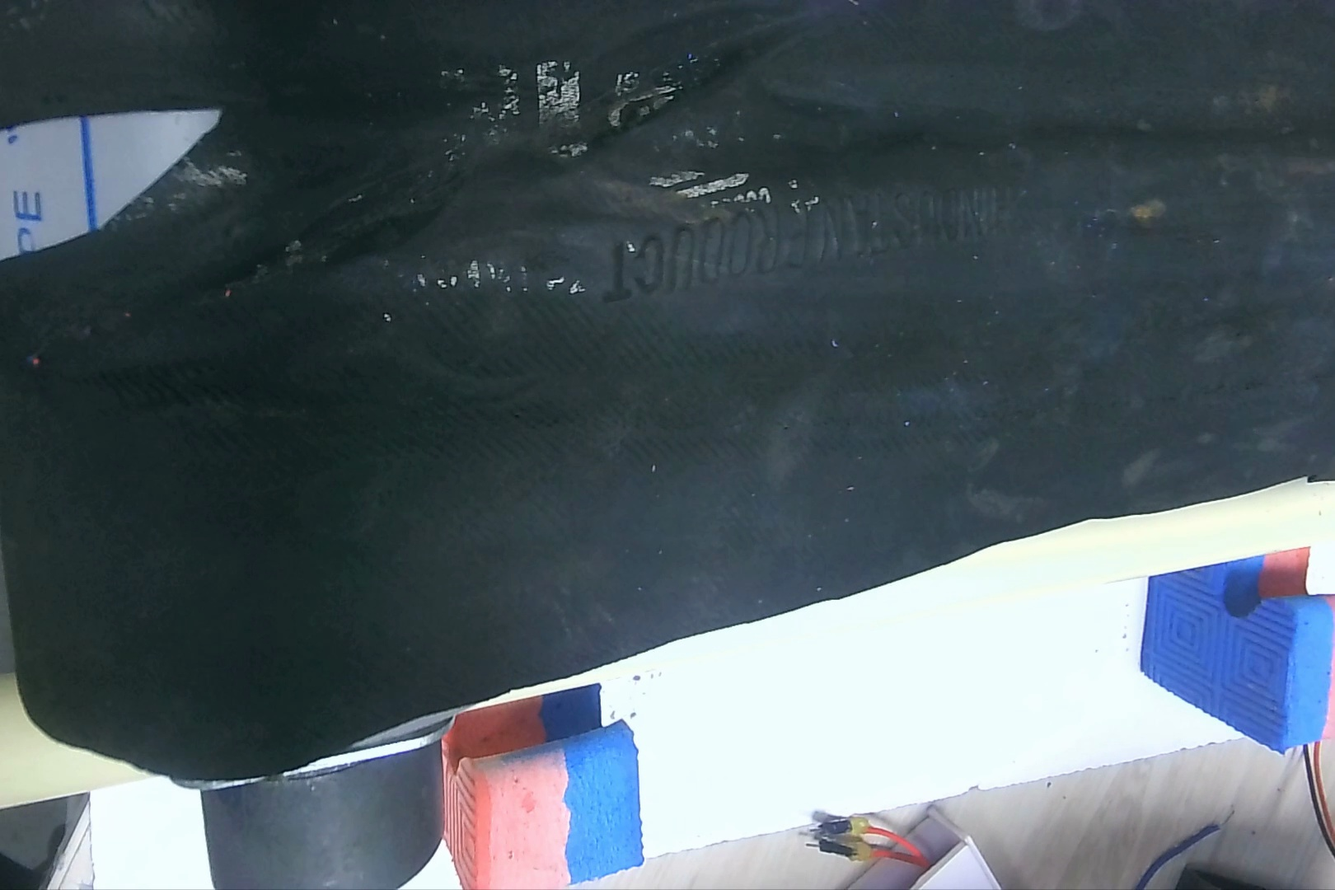hole: (1, 100, 274, 265)
